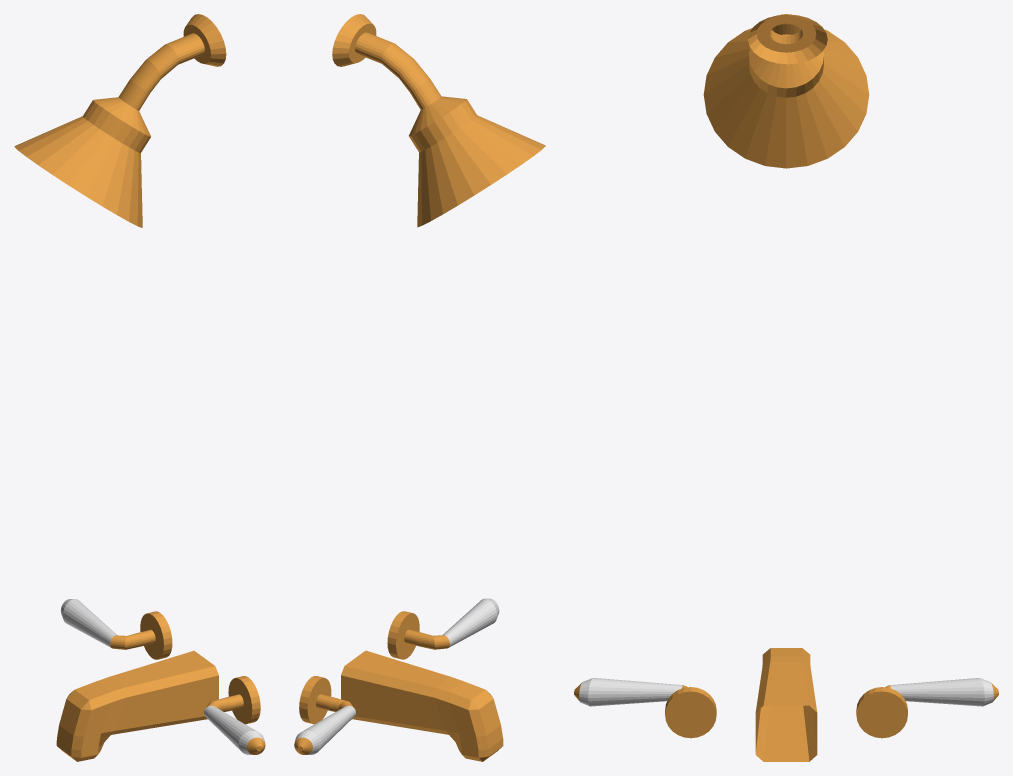
The model's file is shower.fbx.
3 renders of one model, left to right at view 1: azimuth 30°, elevation 25°; view 2: azimuth 150°, elevation 25°; view 3: azimuth 270°, elevation 25°, orthographic. The views are drawn at different scales.
Parts seen in each view (by area): view 1: Shower; view 2: Shower; view 3: Shower.
Boxes of the visible parts, x1,y1,x2,y2 form: Shower: [14, 14, 265, 761]; Shower: [294, 14, 545, 761]; Shower: [574, 14, 998, 761].
Size of the model in its own units: 75.43 by 140 by 279.
